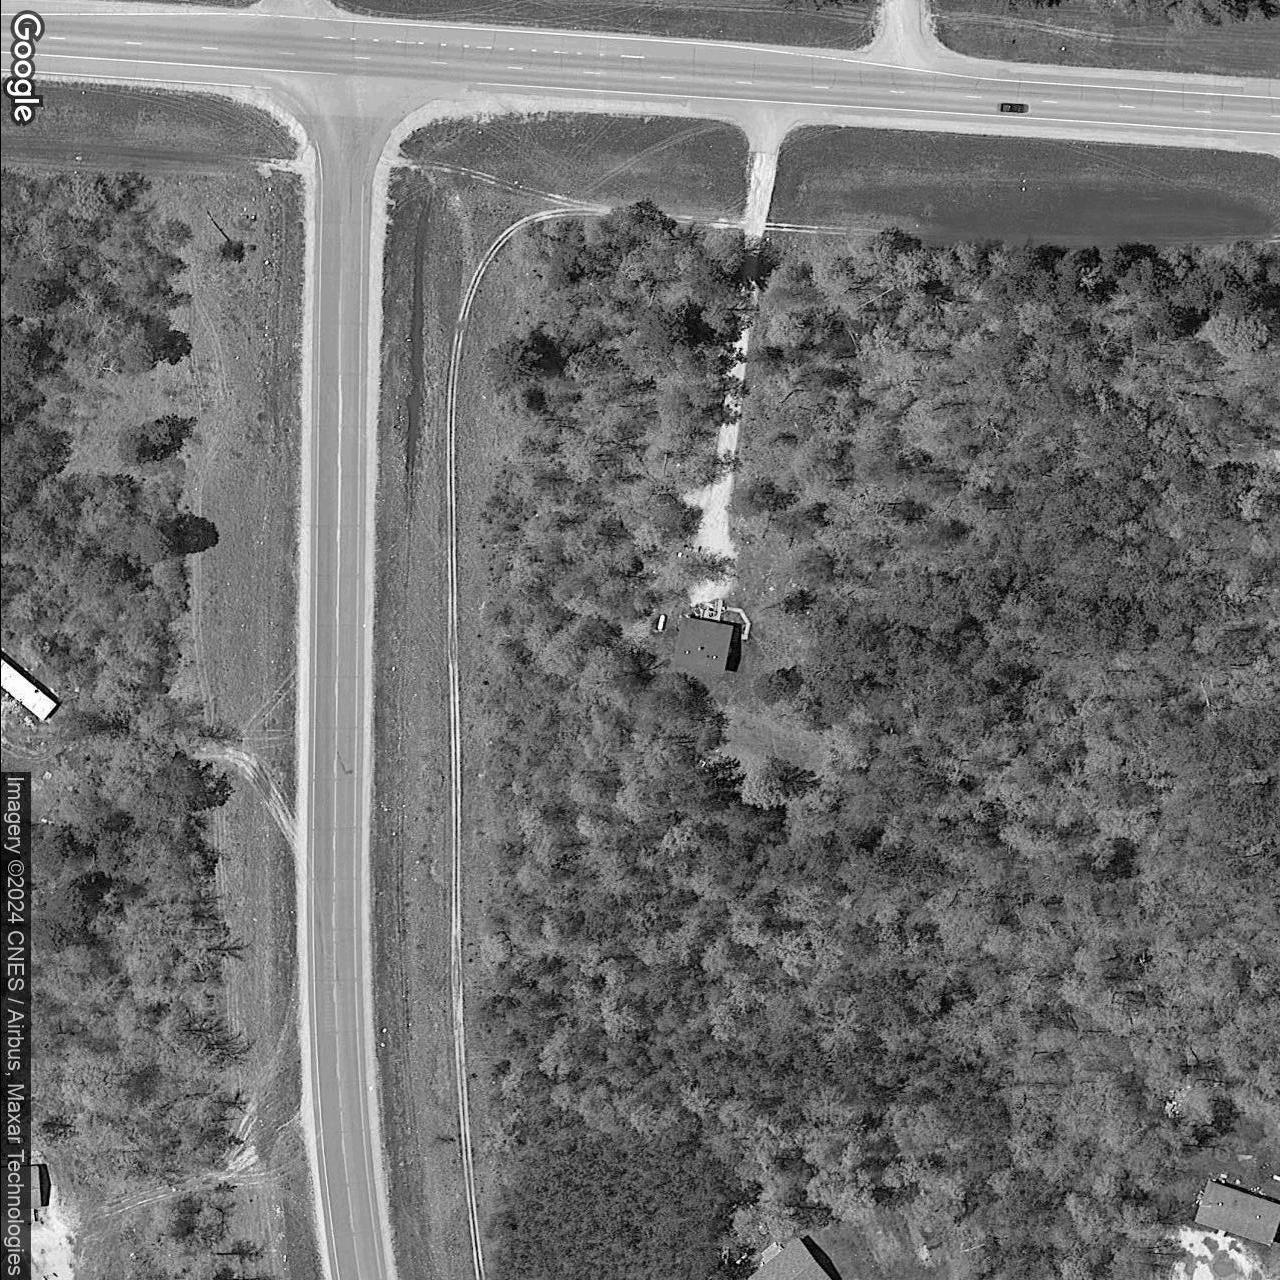House: (1192, 1179, 1280, 1247), (670, 614, 734, 679), (0, 656, 59, 723), (745, 1237, 832, 1280), (30, 1163, 41, 1211)
Propane: (652, 610, 667, 634), (1271, 1173, 1280, 1185)
